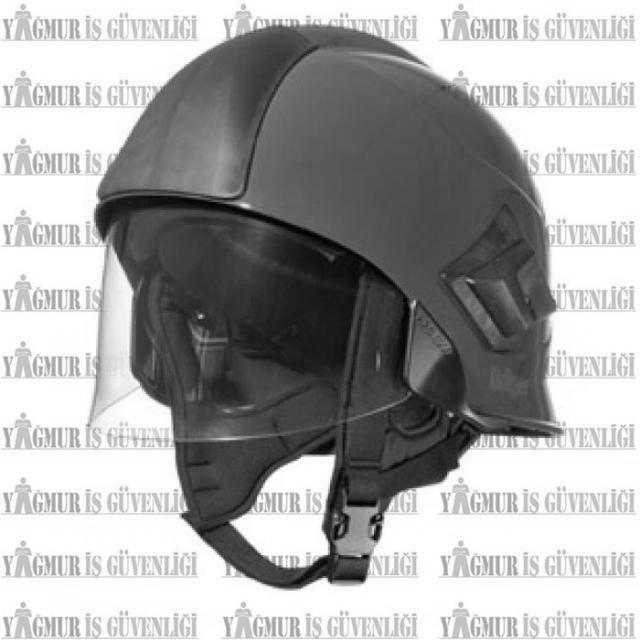construction helmet: (92, 29, 563, 591)
